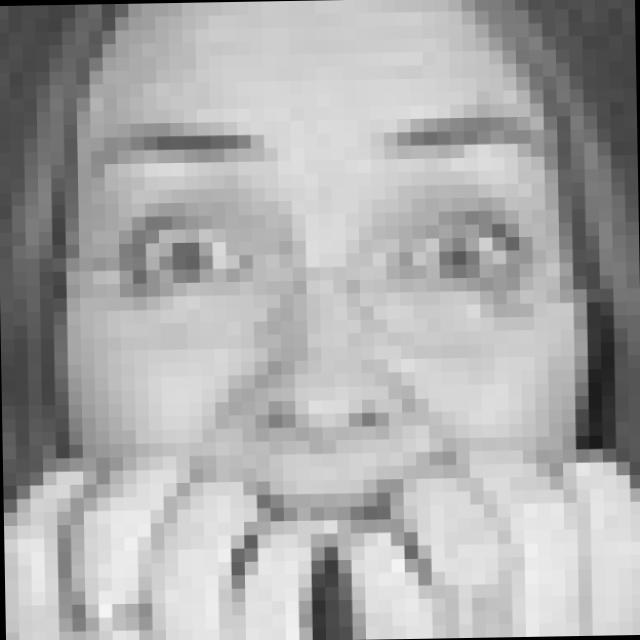fear: (81, 109, 574, 616)
